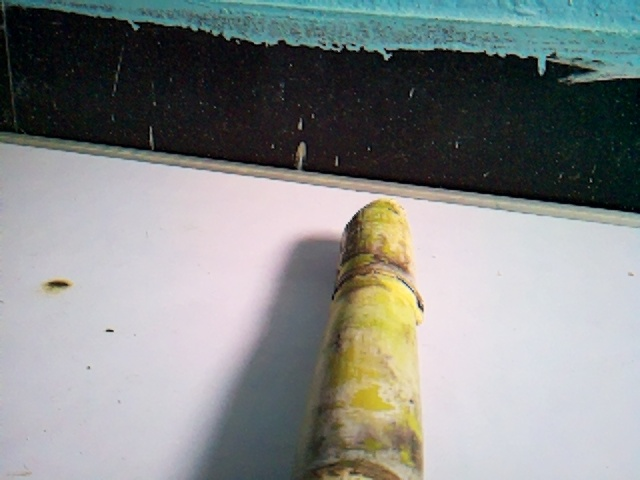Good Sugarcane: (290, 198, 425, 480)
Node: (328, 258, 425, 321)
